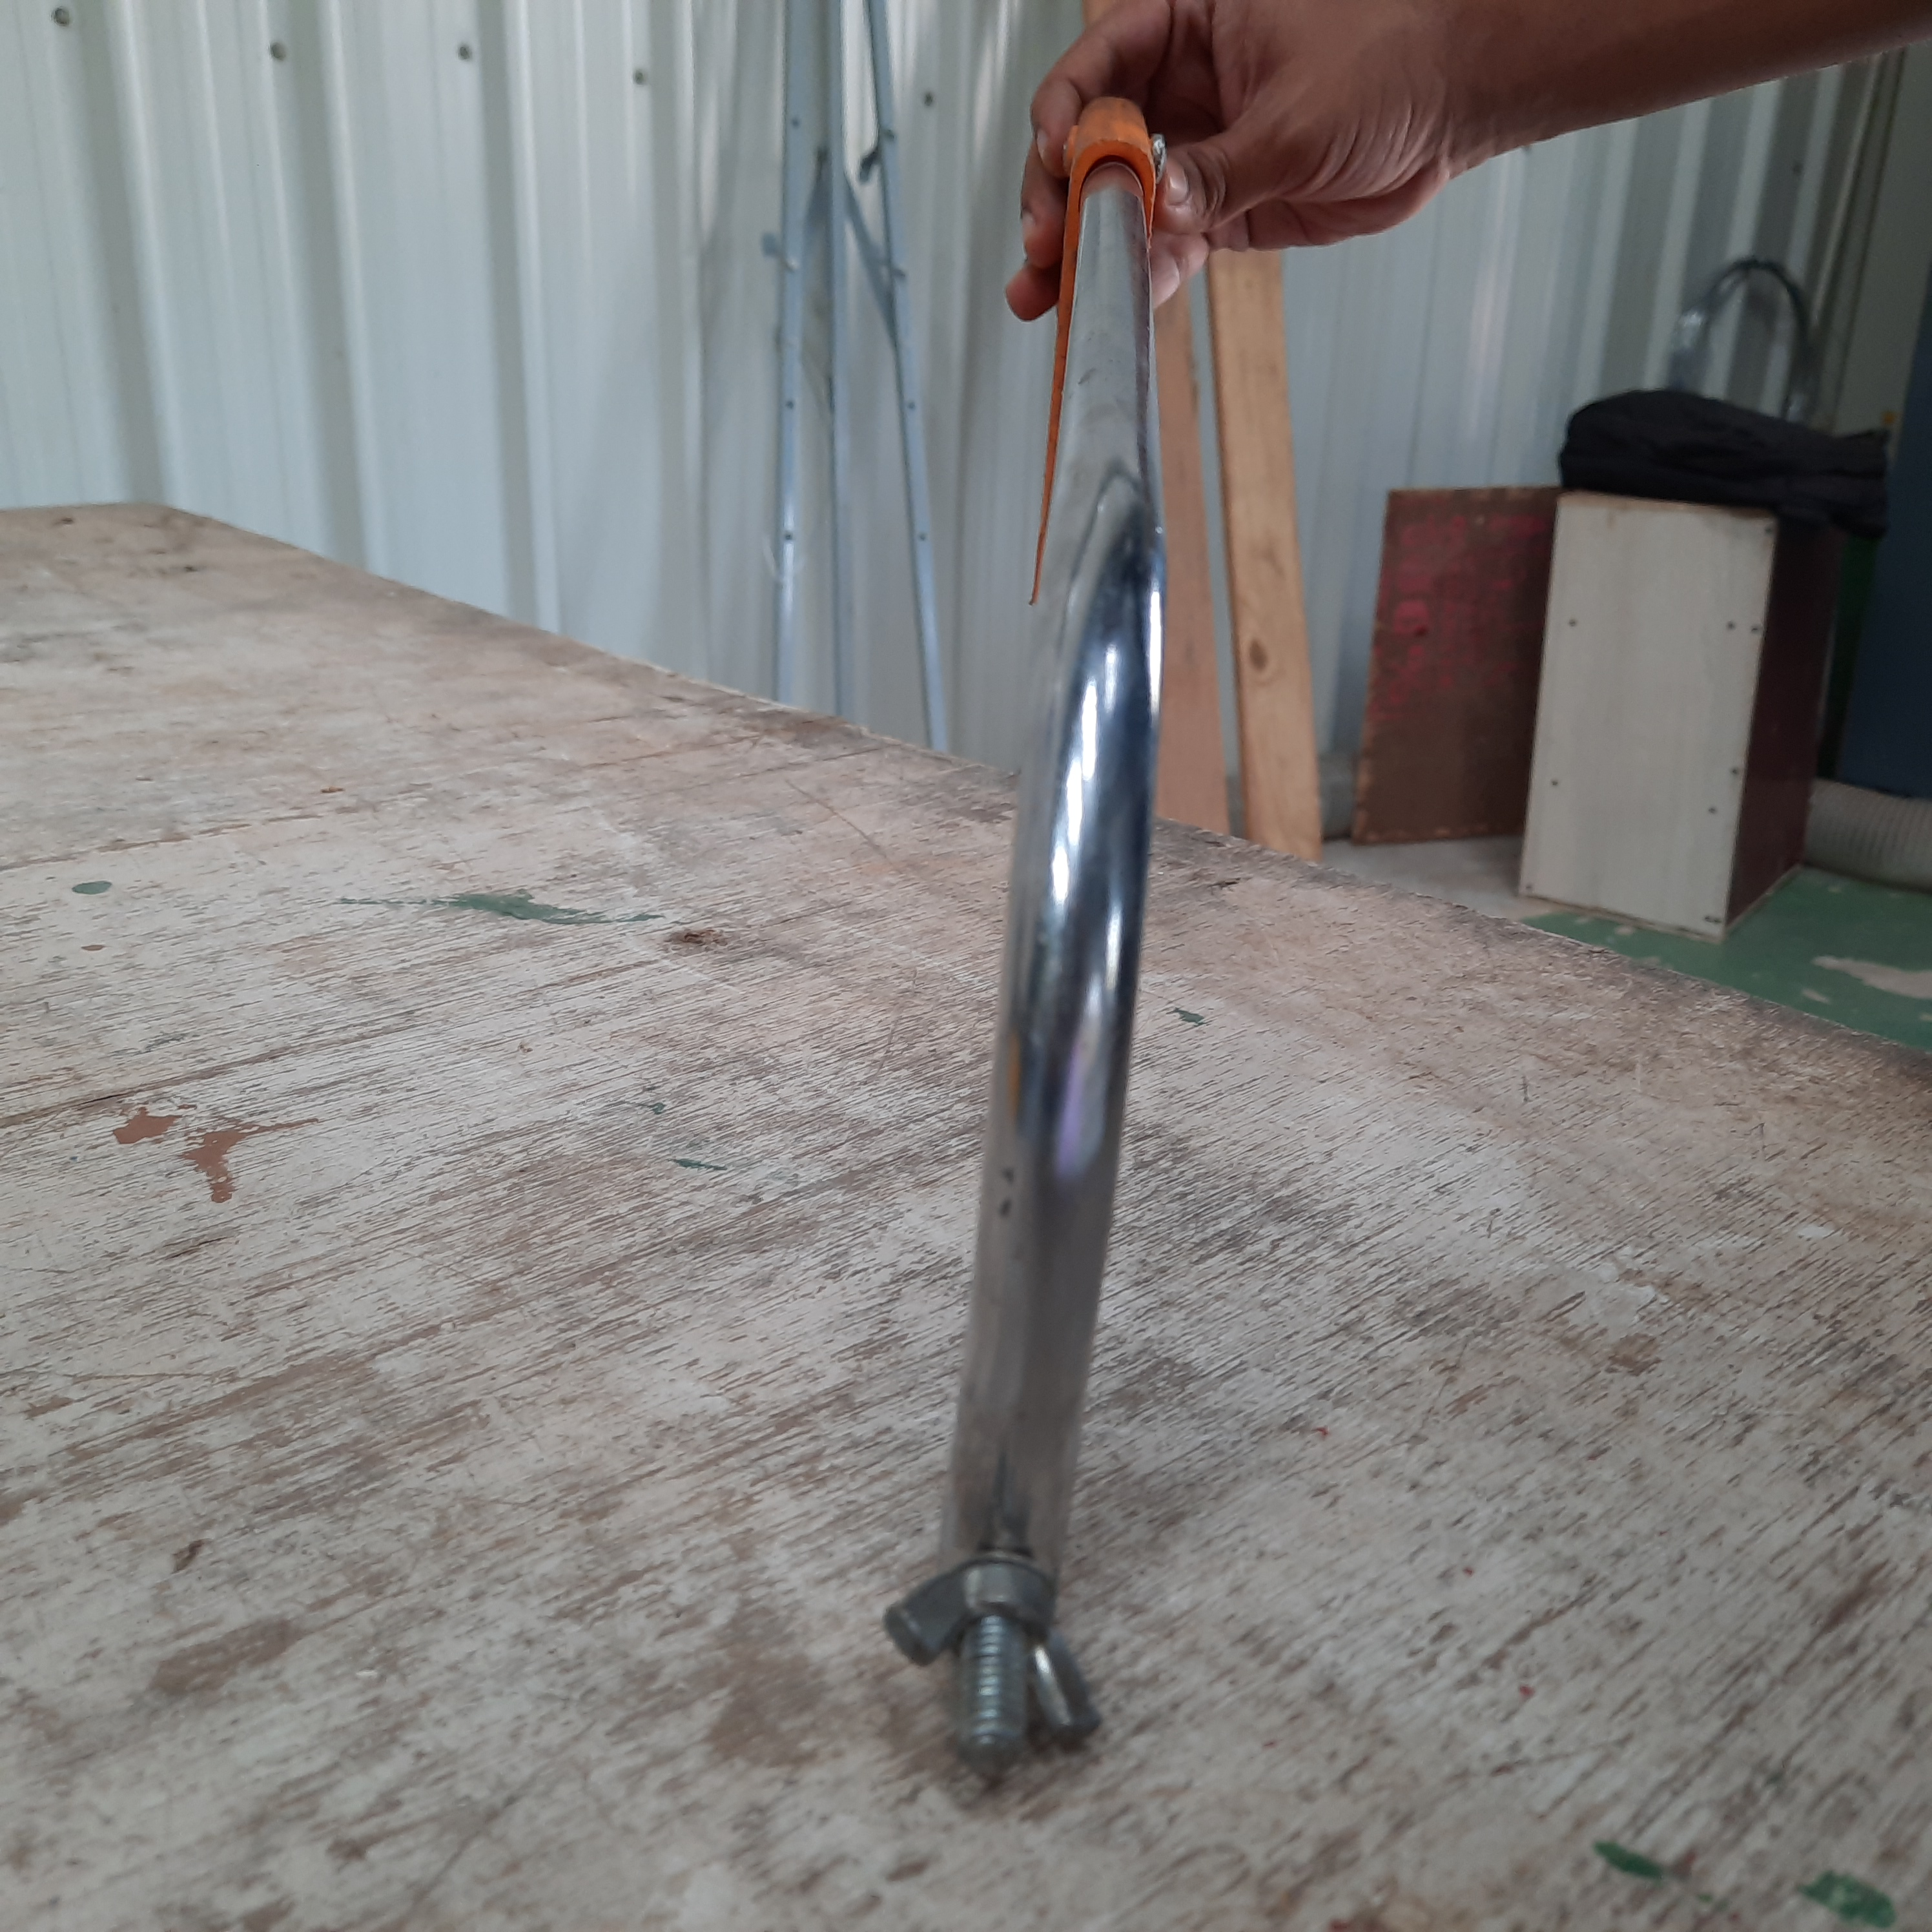Hexaframe: (865, 96, 1345, 1803)
